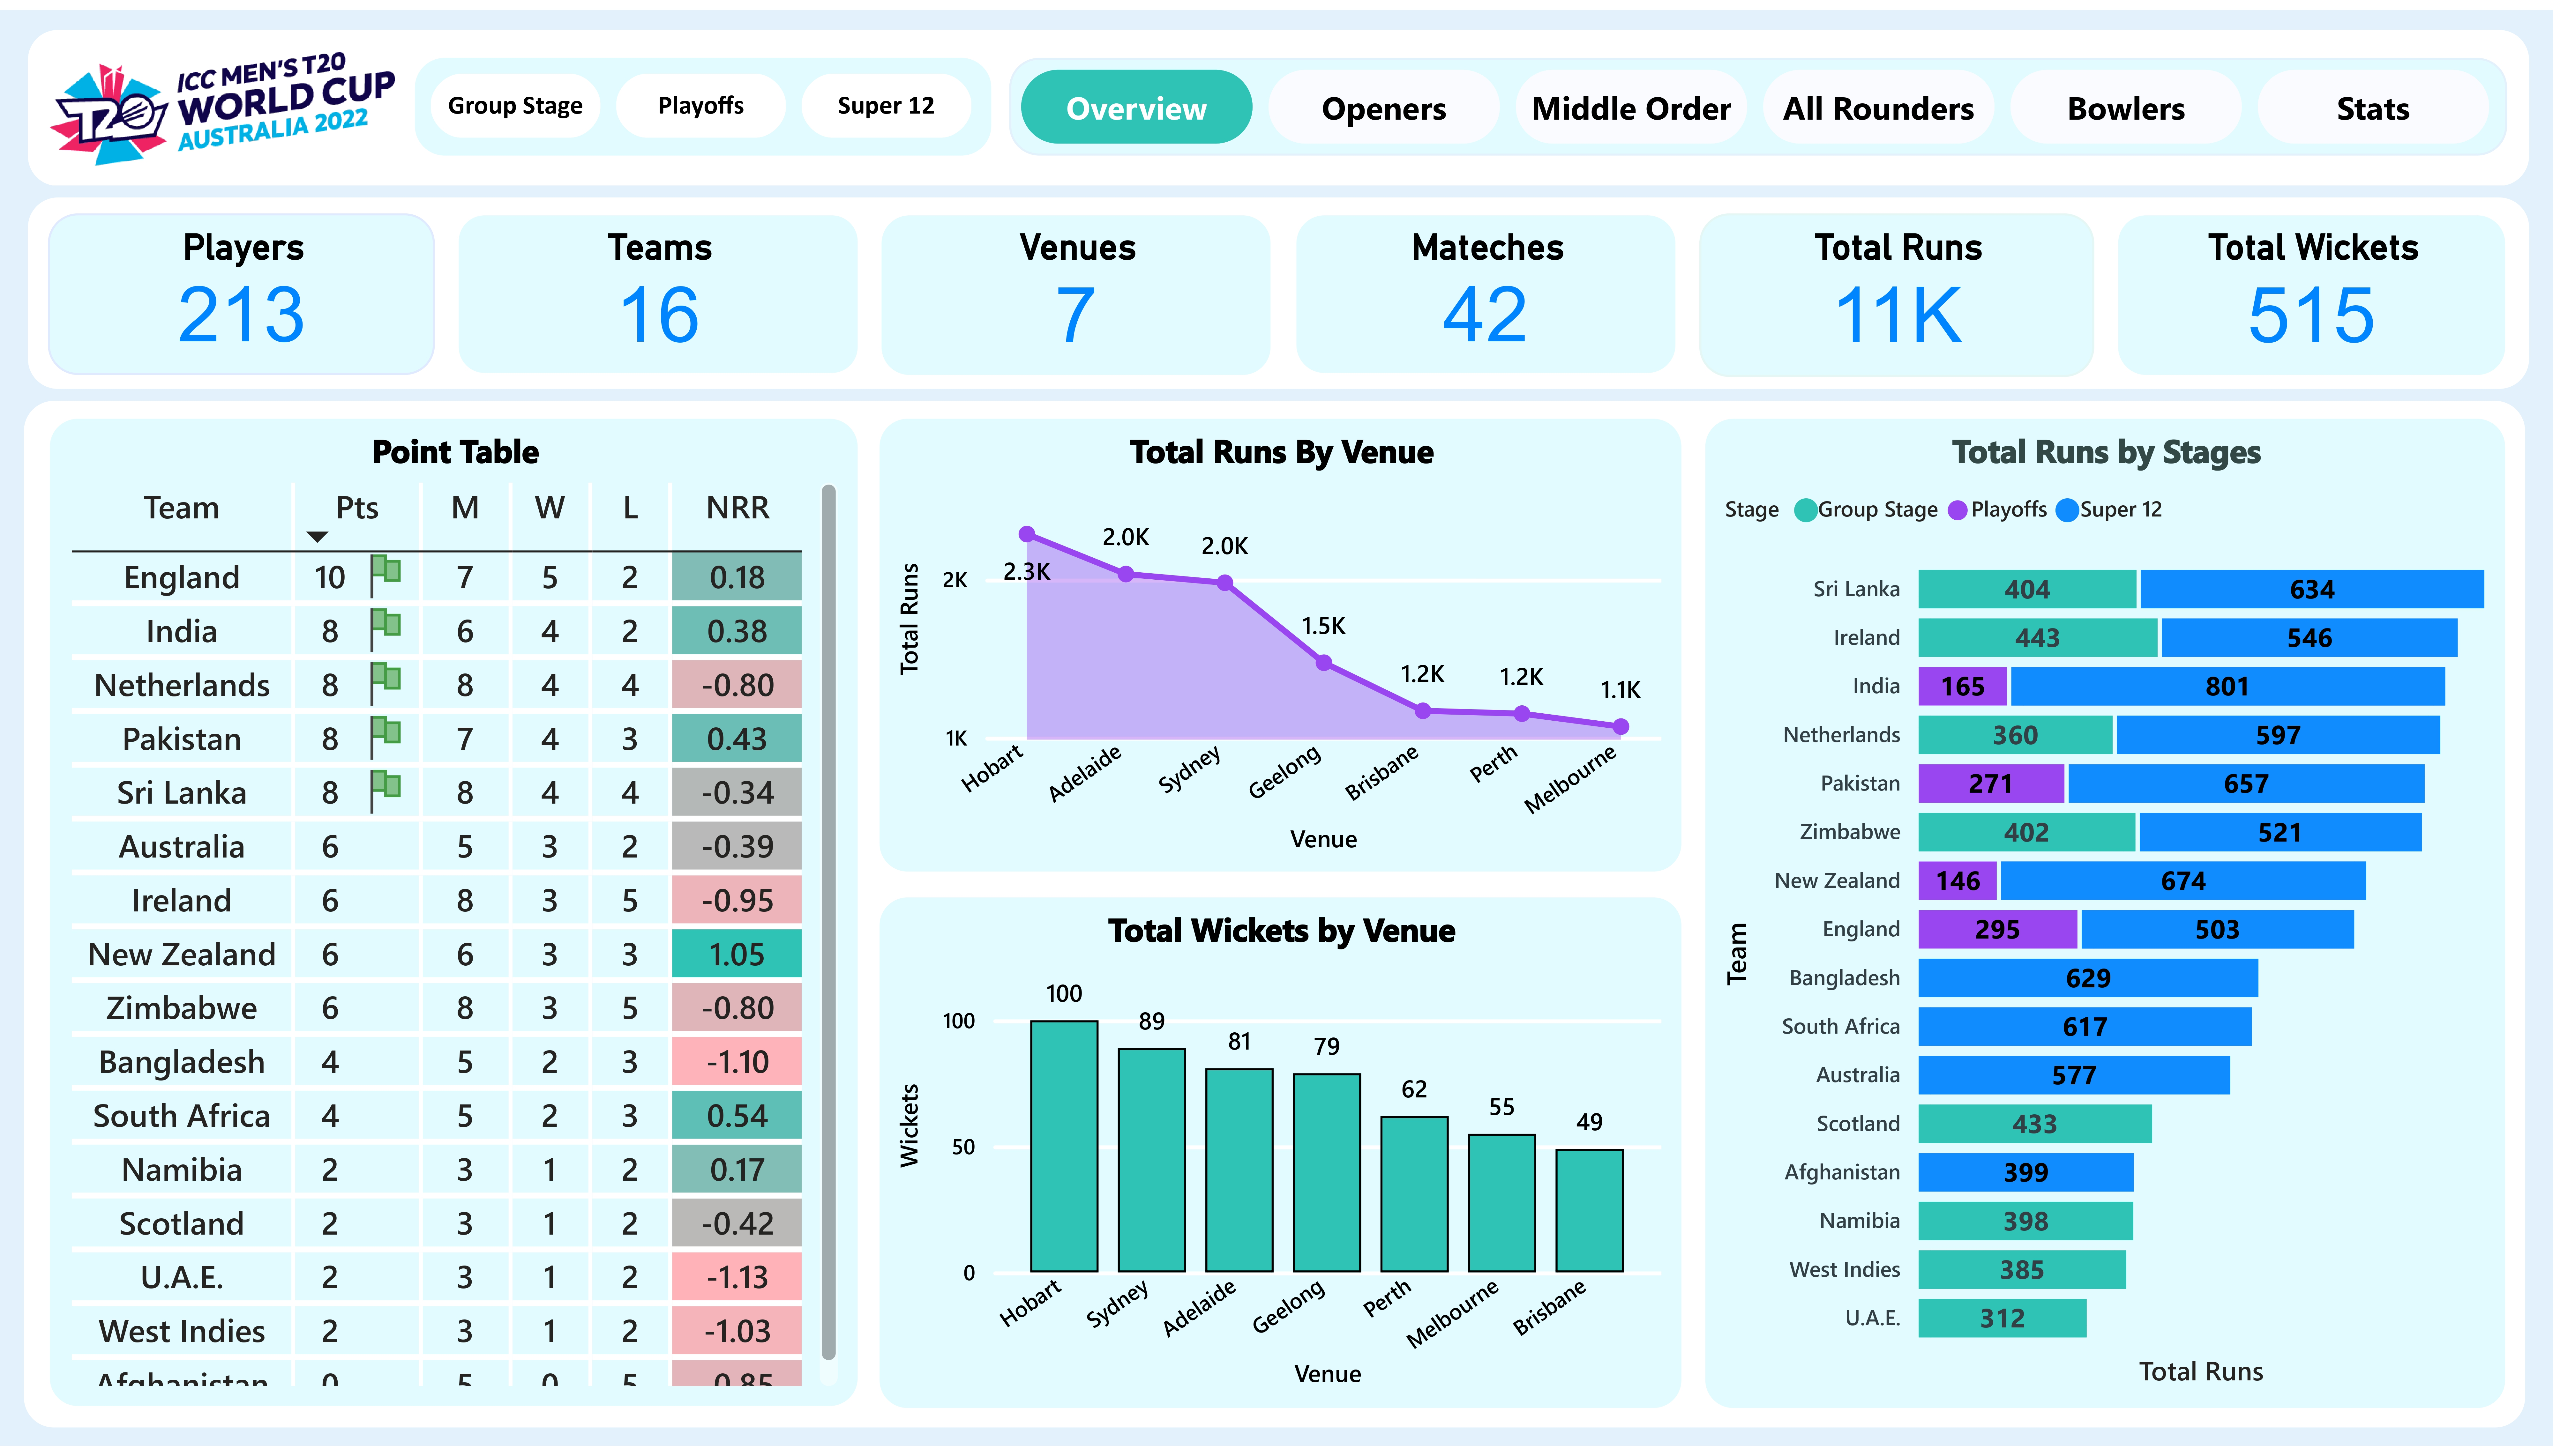

This screenshot's page, from the dashboard's own definition file:
{"tool":"powerbi","page":{"name":"Overview","canvas":[1280,720],"ordinal":0},"visuals":[{"type":"shape","box":[12.5,196.2,1254,514.8],"z":0},{"type":"areaChart","title":"Total Runs By Venue","fields":{"Category":["match_summary.ground"],"Y":["Measure.Total Runs"]},"box":[440.4,204.5,403.6,229.4],"z":1000},{"type":"barChart","title":"Total Runs by Stages","fields":{"Category":["players.team"],"Y":["Measure.Total Runs"],"Series":["match_summary.Stage"]},"box":[853.8,204.1,402.5,497.8],"z":2000},{"type":"tableEx","title":"Point Table","fields":{"Values":["players.team","Measure.Pts","Measure.M","Measure.W","Measure.L","Measure.NRR"]},"box":[23.8,204.5,406.8,496.6],"z":3000},{"type":"shape","box":[13.8,93.8,1254,96],"z":4000},{"type":"advanceCardE03760C5AB684758B56AA29F9E6C257B","title":"Teams","fields":{"mainMeasure":["Count(bating_summary.team)"]},"box":[229,102,202,81.2],"z":5000},{"type":"advanceCardE03760C5AB684758B56AA29F9E6C257B","title":"Players","fields":{"mainMeasure":["Measure.Total Players"]},"box":[24.5,102,194.4,81.1],"z":6000},{"type":"shape","box":[13.6,10.2,1254,78.2],"z":7000},{"type":"image","box":[25.2,12.6,173.4,73.6],"z":8000},{"type":"advanceCardE03760C5AB684758B56AA29F9E6C257B","title":"Total Wickets","fields":{"mainMeasure":["Measure.Wickets"]},"box":[1061,102,196,81.6],"z":10000},{"type":"advanceCardE03760C5AB684758B56AA29F9E6C257B","title":"Total Runs","fields":{"mainMeasure":["Measure.Total Runs"]},"box":[852,102,198,81.6],"z":11000},{"type":"advanceCardE03760C5AB684758B56AA29F9E6C257B","title":"Mateches","fields":{"mainMeasure":["Count(bating_summary.match)"]},"box":[649,102,192,81],"z":12000},{"type":"advanceCardE03760C5AB684758B56AA29F9E6C257B","title":"Venues","fields":{"mainMeasure":["Count(match_summary.ground)"]},"box":[441,102,197,81.6],"z":13000},{"type":"clusteredColumnChart","title":"Total Wickets by Venue","fields":{"Category":["match_summary.ground"],"Y":["Measure.Wickets"]},"box":[440,443.6,403.6,257.5],"z":14000},{"type":"pageNavigator","box":[506.1,24,750.9,49],"z":15000},{"type":"advancedSlicerVisual","fields":{"Values":["match_summary.Stage"]},"box":[208.1,24.5,289.4,49],"z":16000}]}

Visuals, with their boxes in screenshot pixels (x1, y1, x2, y2), scaled from the page's 1280x720 canvas onto the 2553x1456 screenshot:
shape: (25,397,2526,1438)
"Total Runs By Venue" areaChart: (878,413,1683,877)
"Total Runs by Stages" barChart: (1703,413,2506,1419)
"Point Table" tableEx: (48,413,859,1418)
shape: (27,190,2529,384)
"Teams" advanceCardE03760C5AB684758B56AA29F9E6C257B: (457,206,860,370)
"Players" advanceCardE03760C5AB684758B56AA29F9E6C257B: (49,206,437,370)
shape: (27,21,2528,179)
image: (50,26,396,174)
"Total Wickets" advanceCardE03760C5AB684758B56AA29F9E6C257B: (2116,206,2507,371)
"Total Runs" advanceCardE03760C5AB684758B56AA29F9E6C257B: (1699,206,2094,371)
"Mateches" advanceCardE03760C5AB684758B56AA29F9E6C257B: (1294,206,1677,370)
"Venues" advanceCardE03760C5AB684758B56AA29F9E6C257B: (880,206,1273,371)
"Total Wickets by Venue" clusteredColumnChart: (878,897,1682,1418)
pageNavigator: (1009,48,2507,148)
advancedSlicerVisual - match_summary.Stage: (415,49,992,149)
